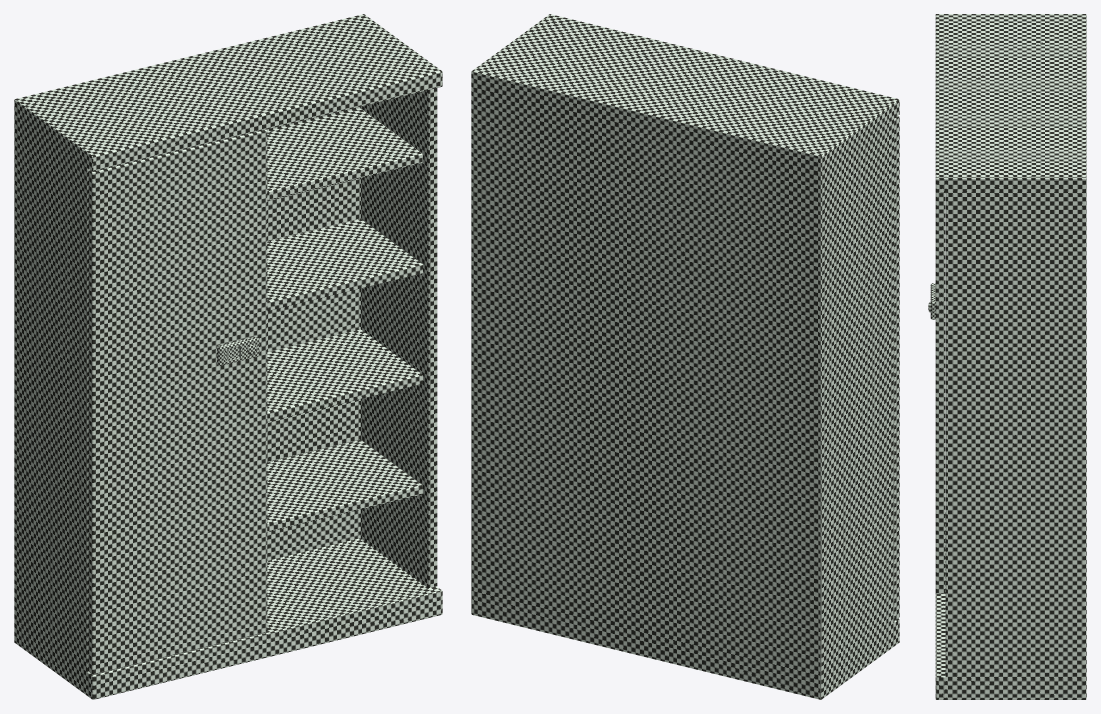
The model's file is Locker_002.FBX.
The picture shows the model from 3 angles, left to right: view 1: azimuth 30°, elevation 25°; view 2: azimuth 150°, elevation 25°; view 3: azimuth 270°, elevation 25°; orthographic projection. The views are drawn at different scales.
Parts seen in each view (by area): view 1: Locker_Main_001, Locker_Door_001, Locker_Handle; view 2: Locker_Main_001, Locker_Door_001; view 3: Locker_Main_001, Locker_Door_001.
Boxes of the visible parts, x1,y1,x2,y2 form: Locker_Main_001: (14,14,442,699); Locker_Door_001: (87,130,267,674); Locker_Handle: (217,336,259,365); Locker_Main_001: (471,14,899,699); Locker_Door_001: (894,115,899,620); Locker_Main_001: (935,14,1086,699); Locker_Door_001: (935,193,945,593).
Bounding box in the file's own units: 1.66 × 2.46 × 0.6746.
Materials: 1 (1 with a texture image).
